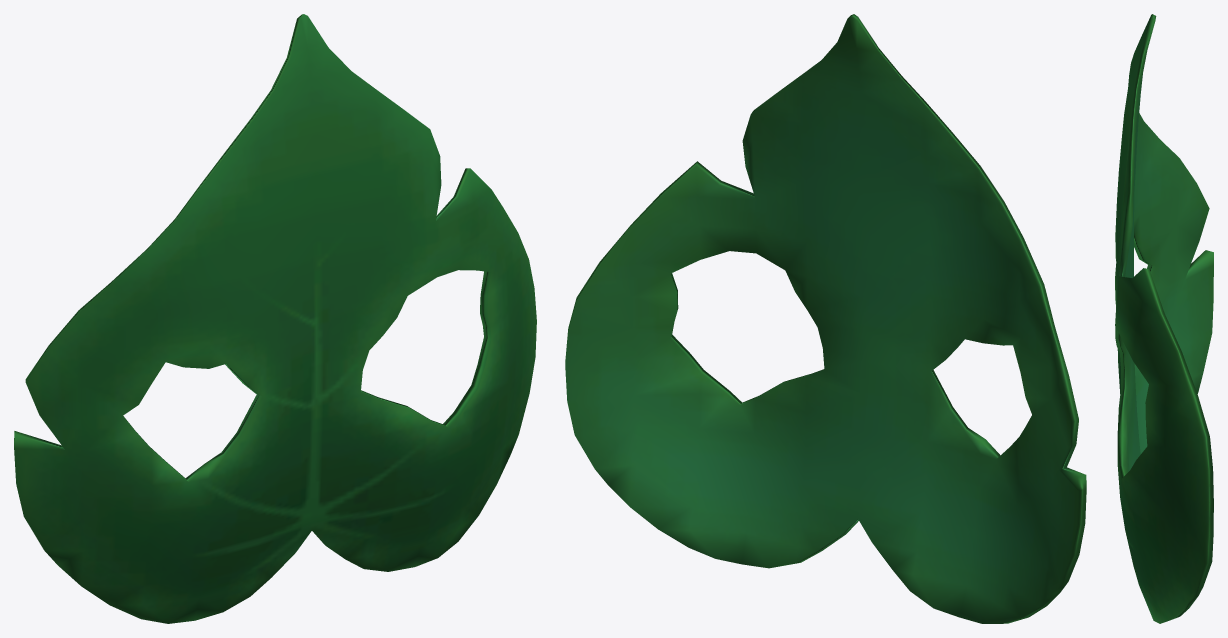
File: CapMaskLeaf0.glb
3 renders of one model, left to right at view 1: azimuth 30°, elevation 25°; view 2: azimuth 150°, elevation 25°; view 3: azimuth 270°, elevation 25°, orthographic. The views are drawn at different scales.
Parts seen in each view (by area): view 1: Body__mCap; view 2: Body__mCap; view 3: Body__mCap.
Boxes of the visible parts, x1,y1,x2,y2 form: Body__mCap: (14,14,536,623); Body__mCap: (565,14,1086,623); Body__mCap: (1115,14,1213,623).
Bounding box in the file's own units: 6.51 × 6.89 × 1.13.
1 material, 1 textured.
